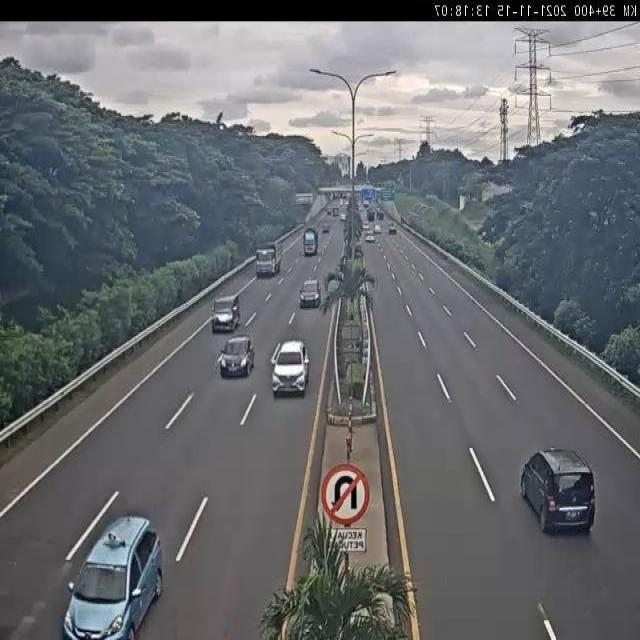Car: (62, 514, 162, 637), (521, 448, 596, 534), (266, 334, 313, 402), (218, 333, 256, 377), (211, 294, 241, 333), (299, 278, 321, 308), (327, 275, 341, 293), (354, 245, 363, 259), (367, 209, 375, 221), (365, 233, 375, 242), (322, 222, 330, 233), (374, 225, 382, 234), (377, 210, 384, 220), (388, 226, 396, 234), (363, 224, 371, 232), (332, 208, 339, 216), (339, 213, 346, 221), (356, 199, 362, 208), (363, 200, 369, 208), (339, 198, 345, 206)
Truck: (249, 239, 286, 284), (299, 224, 322, 258)
